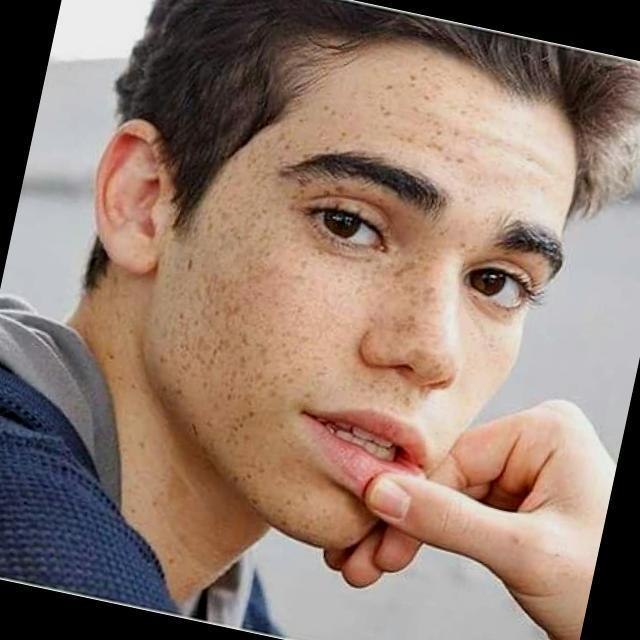freckle: (174, 212, 453, 356), (319, 39, 500, 188), (165, 300, 321, 435), (208, 103, 310, 238)
